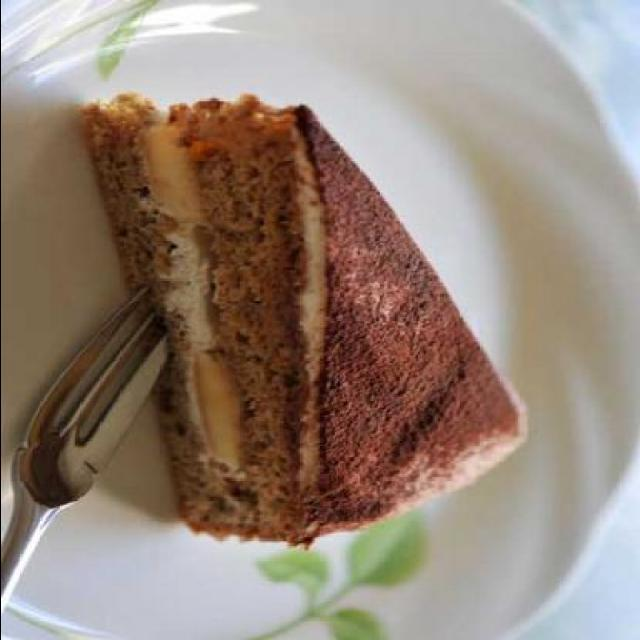Tiramisu: (112, 90, 516, 534)
